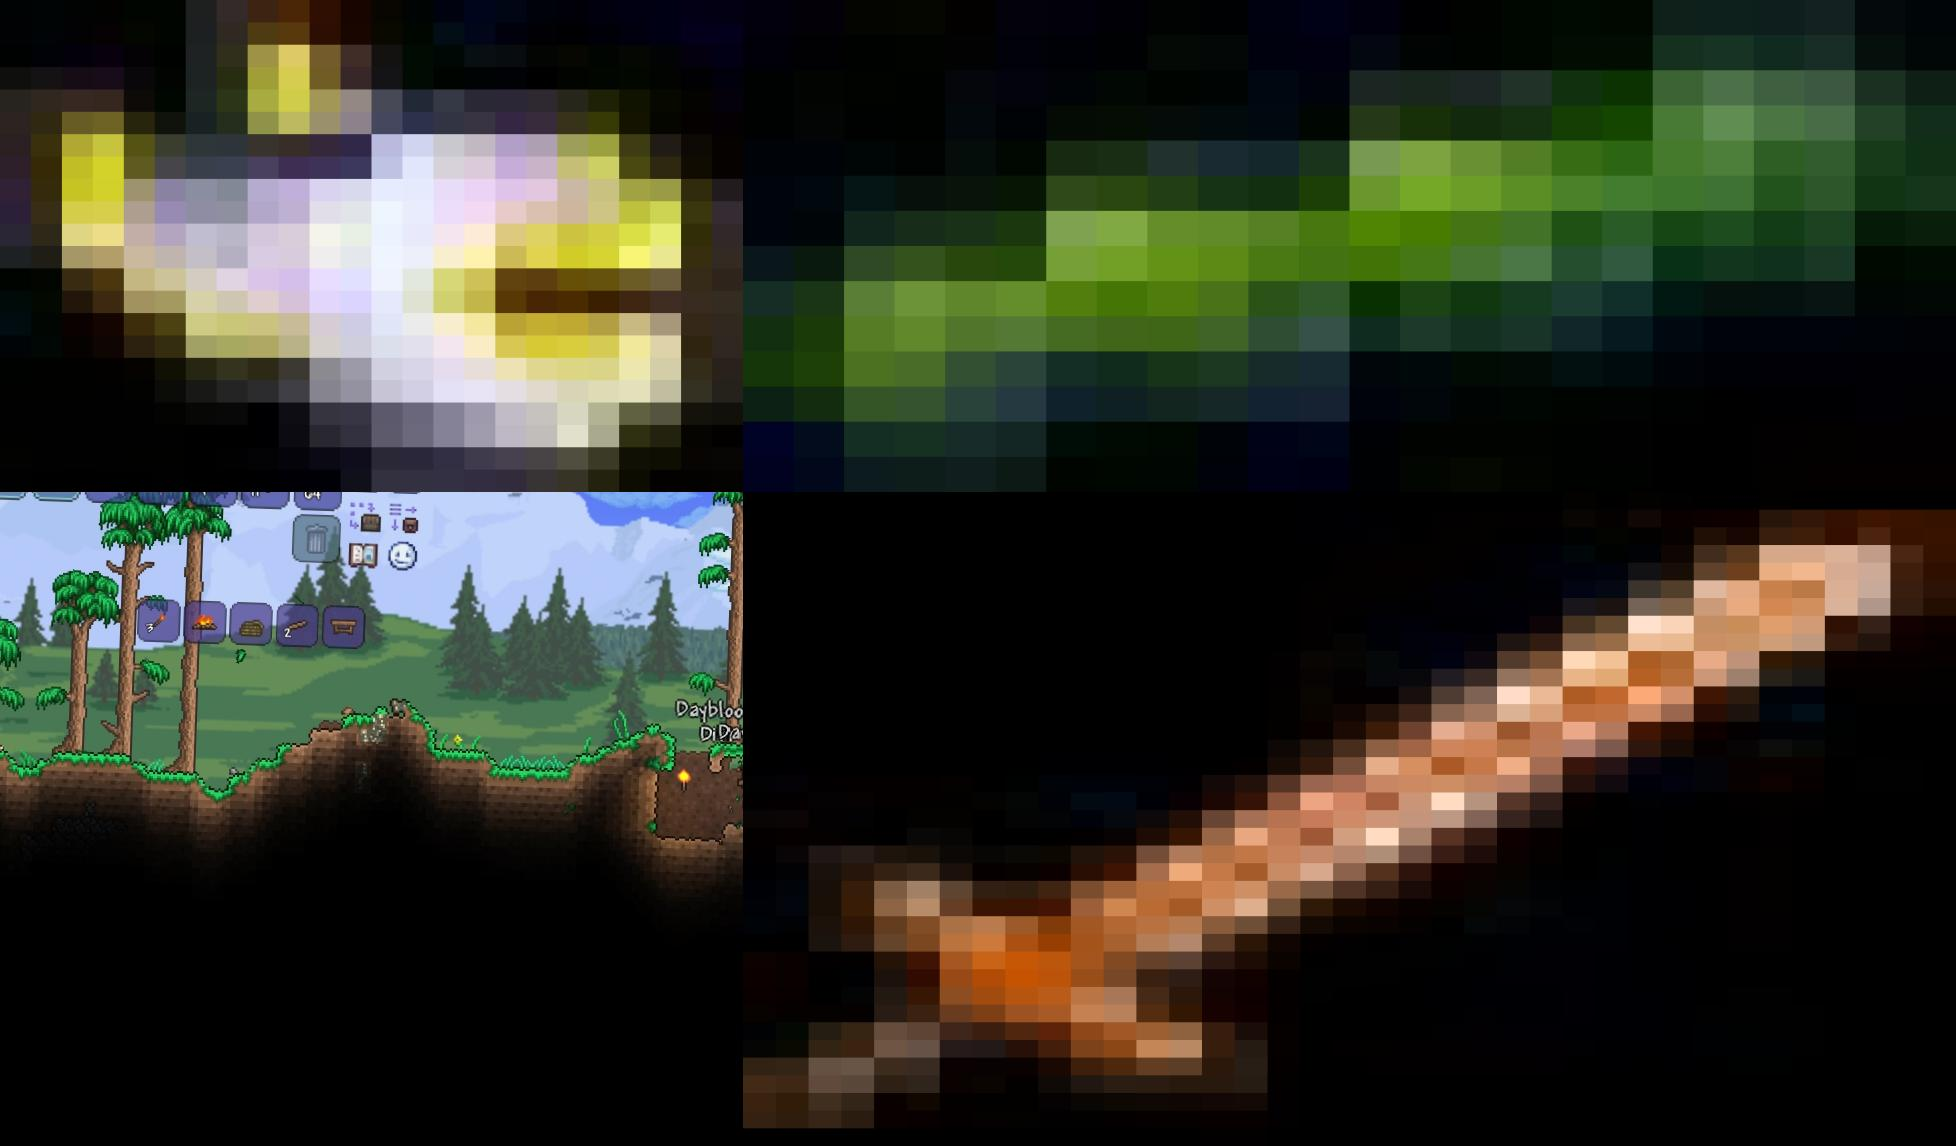helmet: (0, 0, 743, 493)
platform: (743, 0, 1956, 493)
sword: (743, 493, 1956, 1146)
